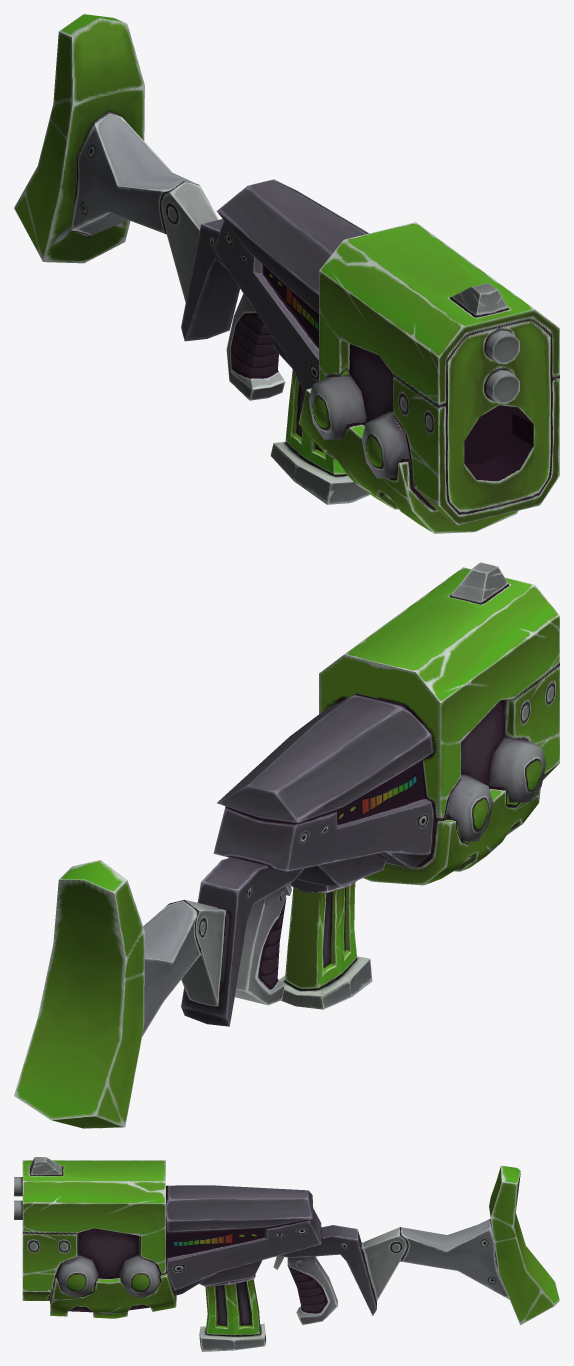
The model's file is gun_7.fbx.
The picture shows the model from 3 angles, top to bottom: view 1: azimuth 30°, elevation 25°; view 2: azimuth 150°, elevation 25°; view 3: azimuth 270°, elevation 25°; orthographic projection. The views are drawn at different scales.
Visible parts, largest first — view 1: gun_7; view 2: gun_7; view 3: gun_7.
Boxes of the visible parts, x1,y1,x2,y2 form: gun_7: [14, 14, 559, 533]; gun_7: [14, 562, 559, 1128]; gun_7: [14, 1157, 559, 1351].
Size of the model in its own units: 7.85 by 13.9 by 36.7.
1 material, 1 textured.
